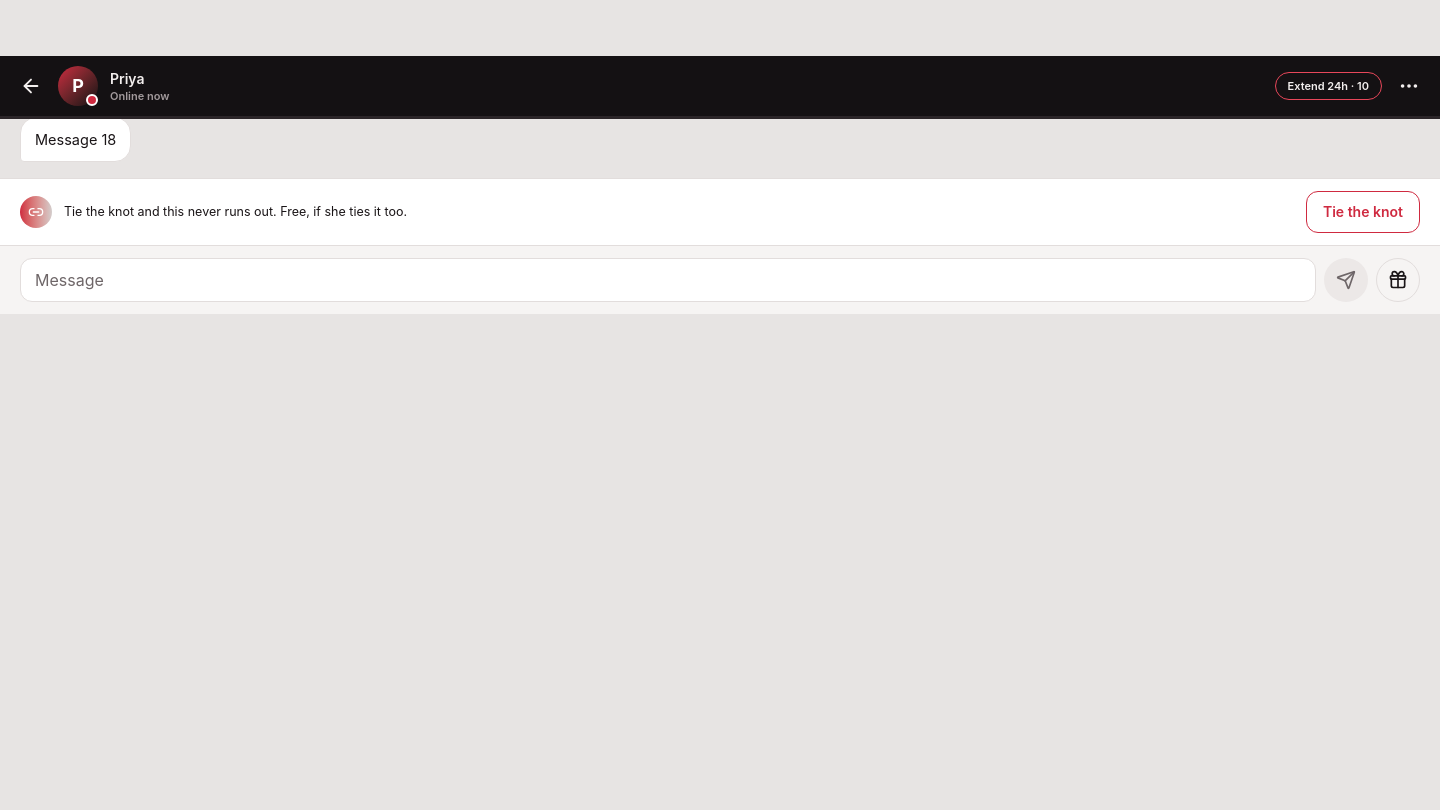
Test: his gift button (T-7.12, D-880) › opens the gift sheet for her where the Thread says a gift is taken
Click the button named "Send Priya a gift": coordinates (1398, 280) x1=1376 y1=258 x2=1420 y2=302
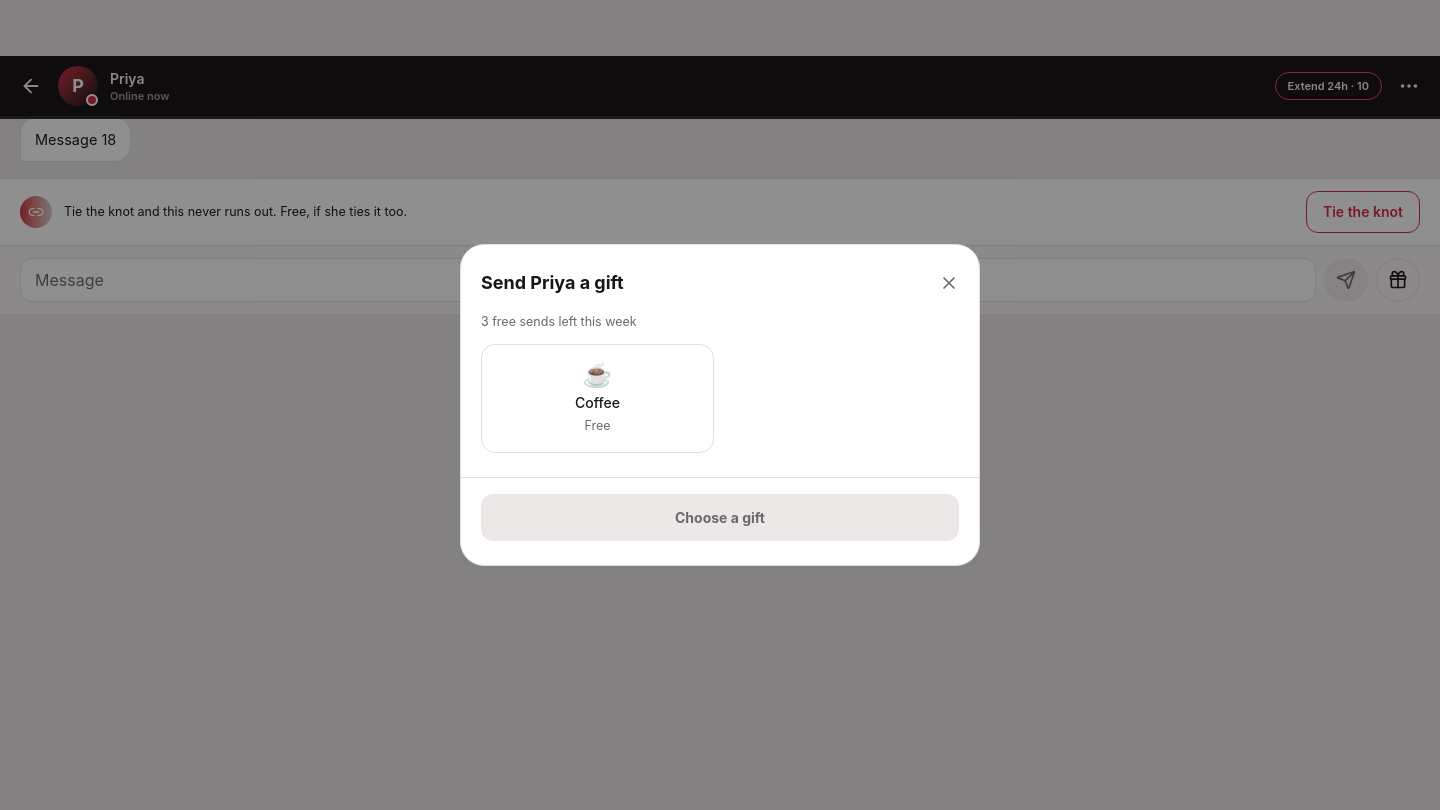
Check: the dialog is shown, box x1=460 y1=244 x2=980 y2=566
